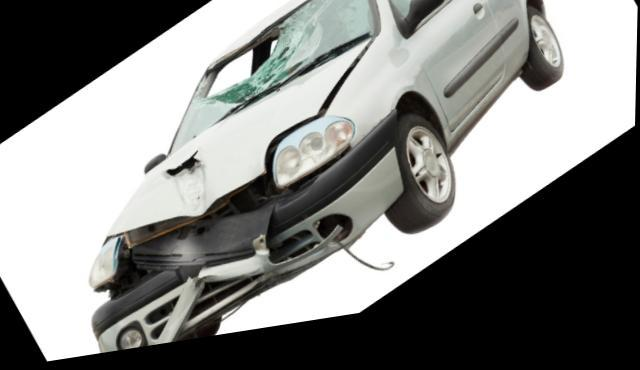crack: (165, 156, 203, 183), (190, 274, 220, 294)
dent: (174, 170, 215, 223)
dislocated part: (119, 180, 344, 350)
glass shatter: (171, 0, 377, 162)
